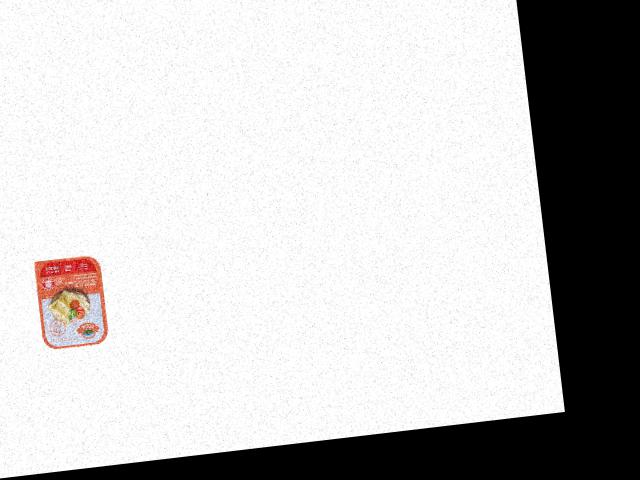cheese: (31, 248, 114, 353)
